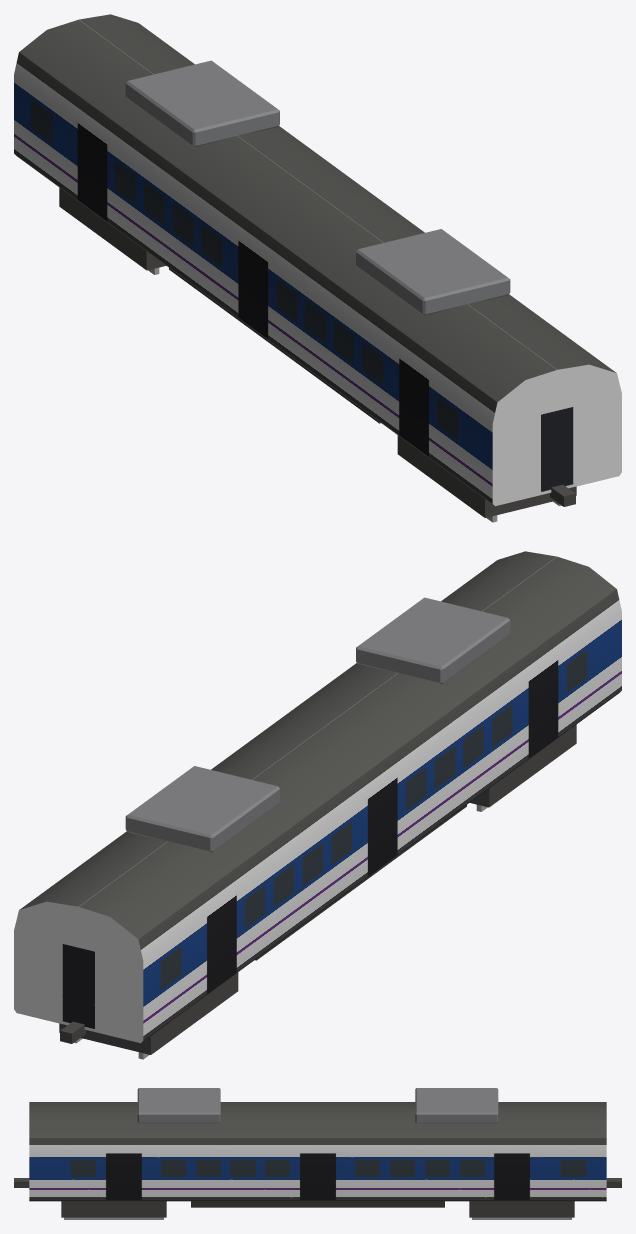
Rendered from emu_ac_trailer_lod1.glb.
The picture shows the model from 3 angles, top to bottom: view 1: azimuth 30°, elevation 25°; view 2: azimuth 150°, elevation 25°; view 3: azimuth 270°, elevation 25°; orthographic projection. The views are drawn at different scales.
Parts seen in each view (by area): view 1: body; view 2: body; view 3: body.
Boxes of the visible parts, <box> form: body: <box>14,14,621,522</box>; body: <box>14,551,621,1059</box>; body: <box>14,1088,621,1219</box>.
Bounding box in the file's own units: 3.25 × 4.33 × 21.9.
Materials: 2 (2 with a texture image).
